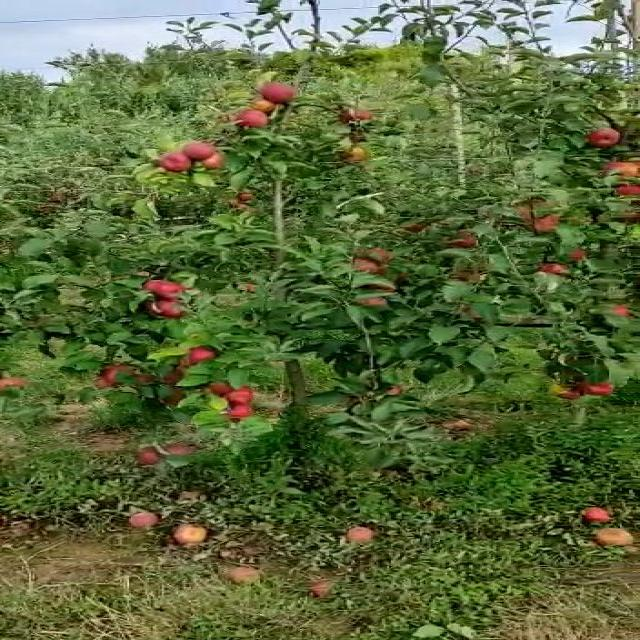100-_ripeness: (136, 280, 184, 305), (256, 79, 302, 103), (607, 159, 640, 190), (237, 107, 274, 133), (158, 297, 196, 320), (109, 365, 146, 388), (215, 384, 247, 410), (154, 152, 194, 172), (180, 348, 222, 365), (187, 142, 224, 159), (228, 403, 256, 420)
